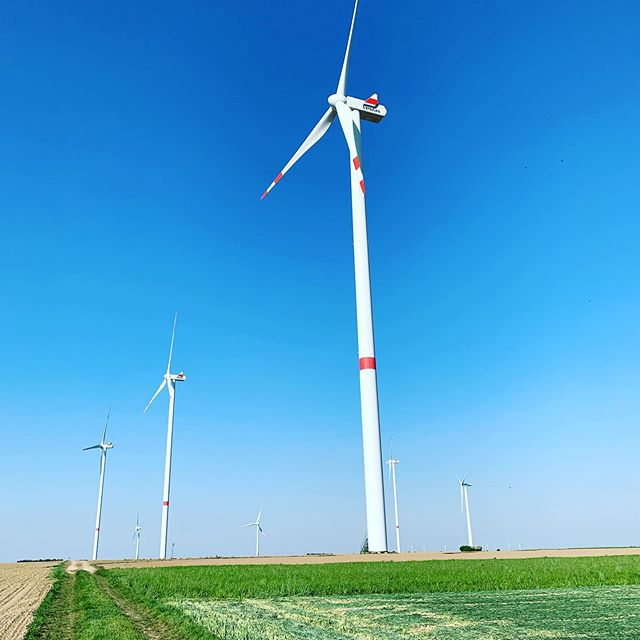sky: (4, 1, 640, 554)
wind turbine: (274, 4, 431, 556), (131, 314, 201, 562), (77, 405, 114, 560), (377, 449, 412, 550), (444, 469, 488, 548), (241, 505, 270, 559)
